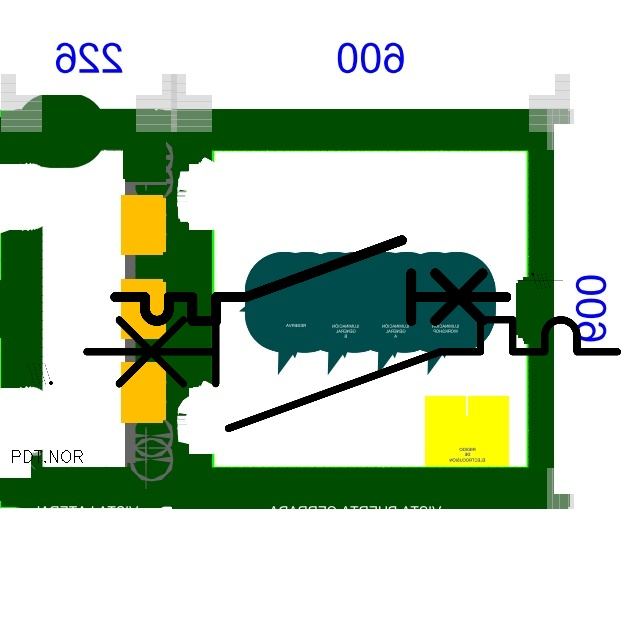interruptor_termomagnetico: (73, 306, 631, 442), (105, 230, 516, 331)
